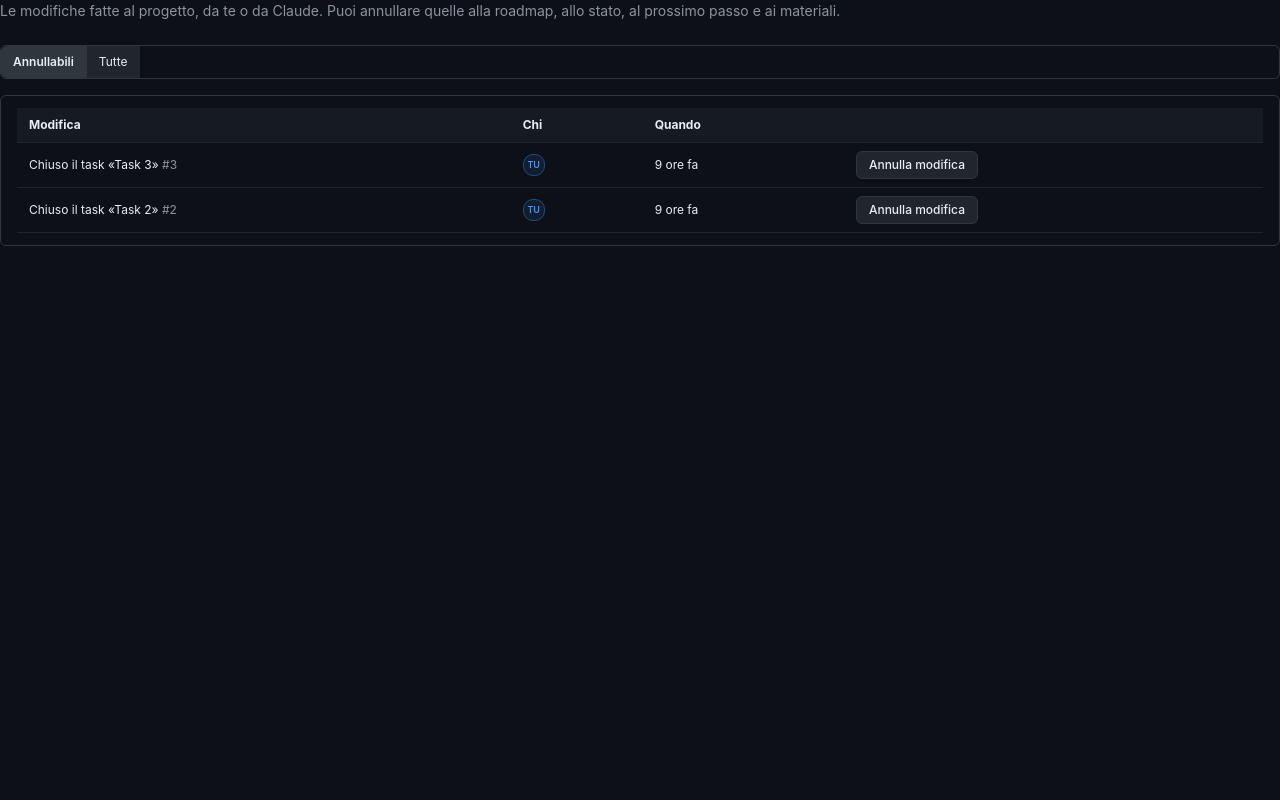
Scenario: ChangesTab › a blocked revert names the later change and highlights it
Click the button with aria-label "Annulla modifica: Chiuso il task «Task 2»".
click(917, 210)  # box [856,196,978,224]
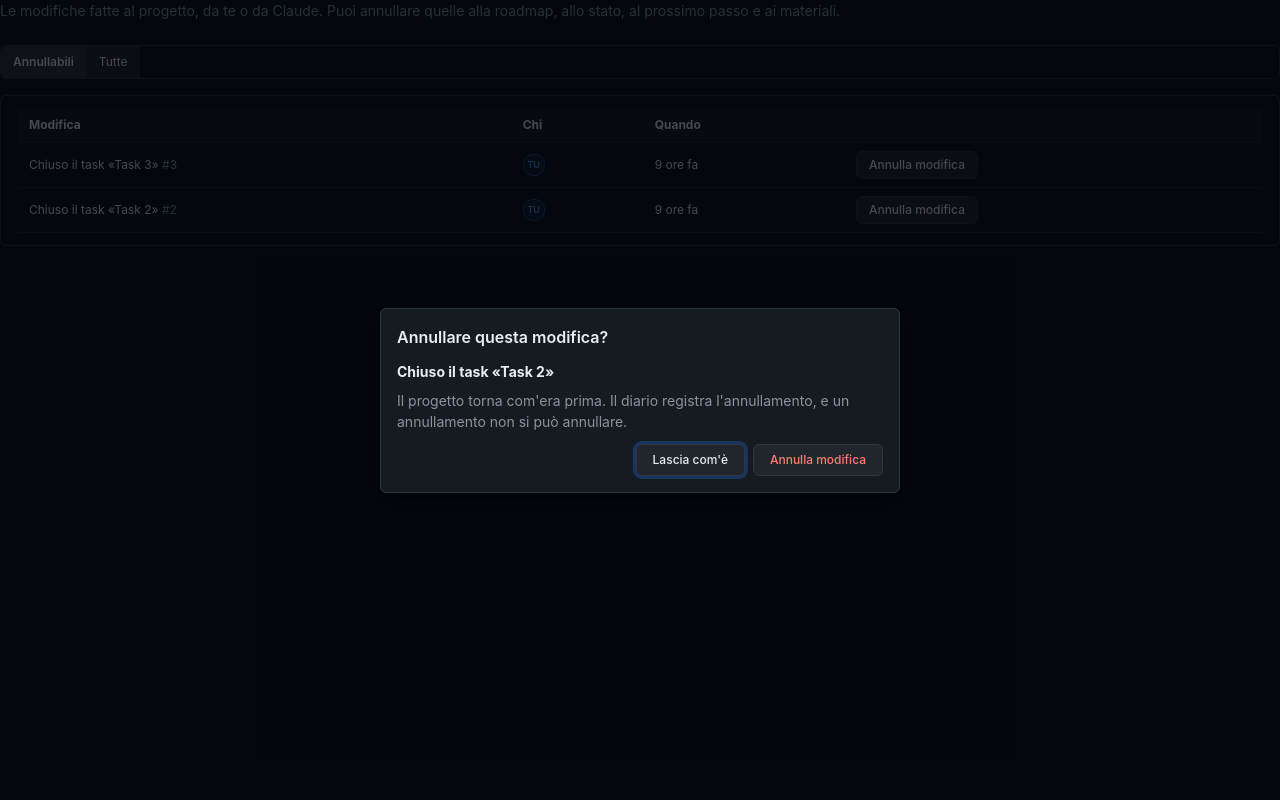
Click the button "Annulla modifica".
click(818, 460)  # box [753,444,883,476]
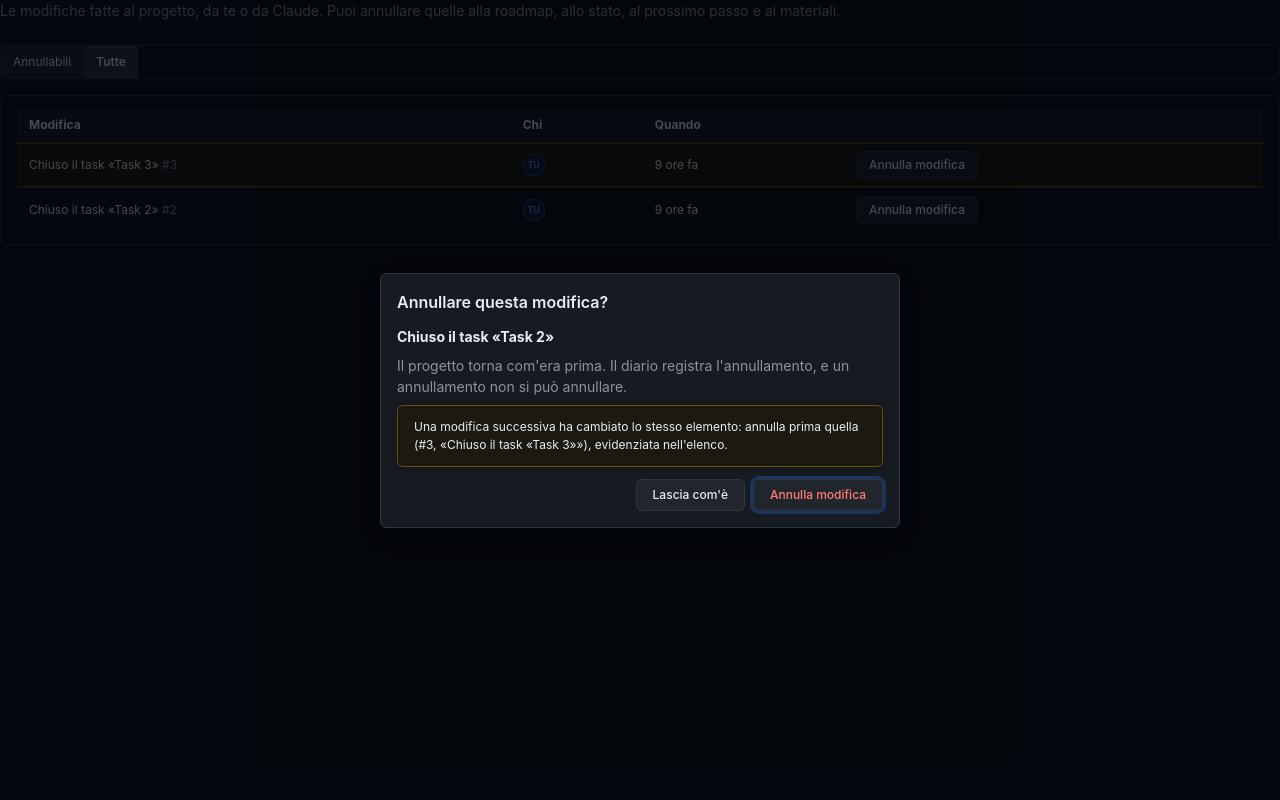
Expected: the text "annulla prima quella (#3, «Chiuso il task «Task 3»»)" is shown, [414,418,858,452]
